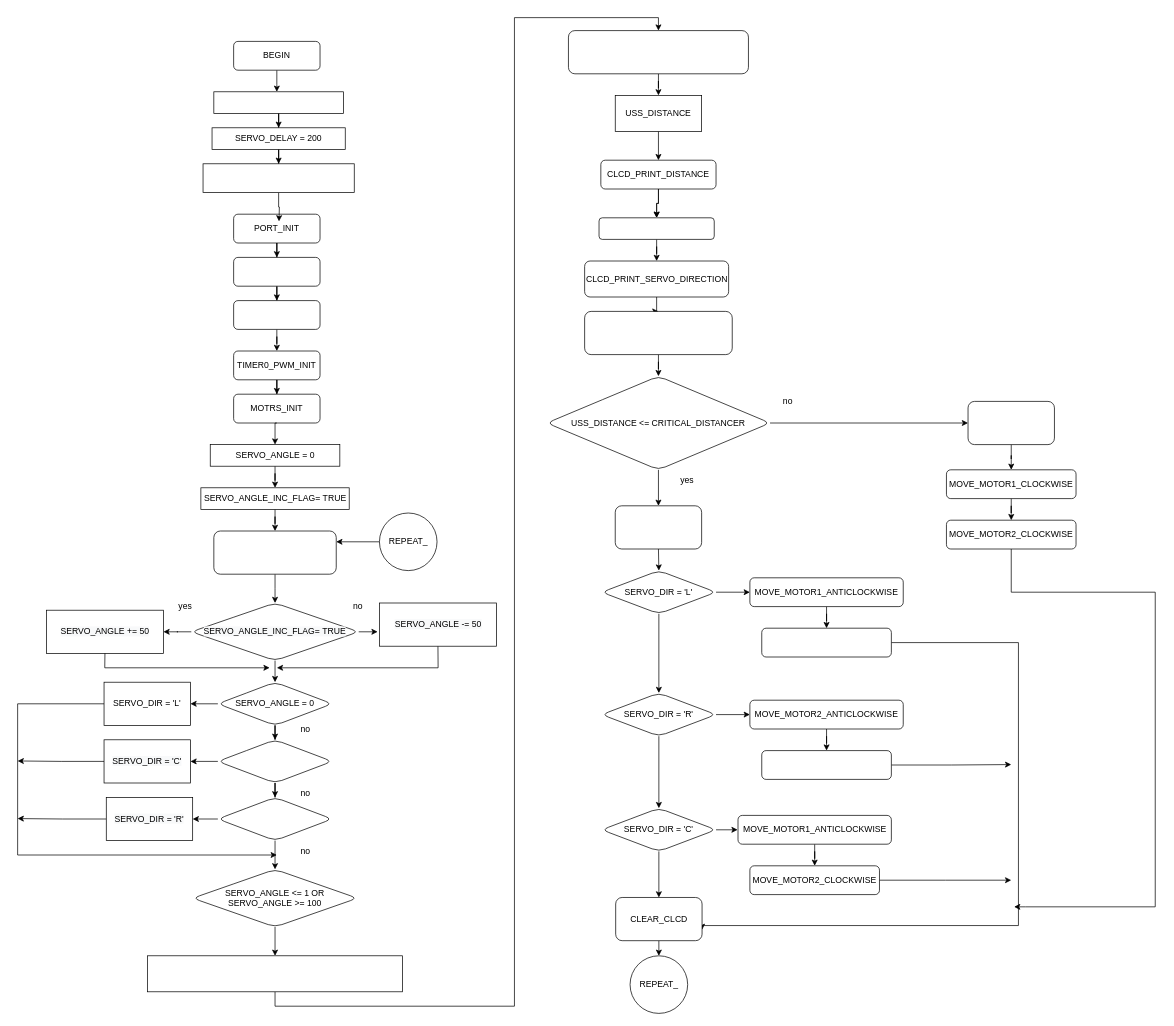
This 1174x1026 diagram has some shape labels left out. Each missing label, with the box of its shape:
CAR_OBSTCALE_SKIP_TIME = 1000: (202, 163, 354, 193)
CHECK_OBSTACLE_MOVE_CAR: (584, 311, 732, 355)
CLCD_INIT: (233, 257, 320, 286)
CLCD_PRINT_NEWLINE: (598, 217, 714, 239)
CRITICAL_DISTANCE = 20: (213, 91, 343, 113)
GET_ULTRASONIC_SENOR_DISTANCE: (568, 30, 748, 74)
MOVE_SERVO_180DEGREE: (213, 530, 336, 574)
SERVO_ANGLE = 100: (217, 797, 332, 841)
SERVO_ANGLE = 50: (217, 739, 332, 783)
SERVO_ANGLE_INC_FLAG = ! SERVO_ANGLE_INC_FLAG: (147, 955, 403, 992)
SET_PWM_50%: (615, 505, 702, 549)
SET_PWM_80%: (967, 401, 1054, 445)
STOP_MOTOR1: (761, 750, 891, 779)
STOP_MOTOR2: (761, 627, 891, 657)
ULTRA_SONIC_INIT: (233, 300, 320, 329)
